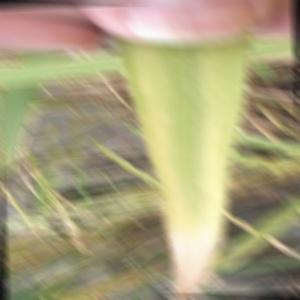Leaf_Blast: (151, 43, 229, 234)
